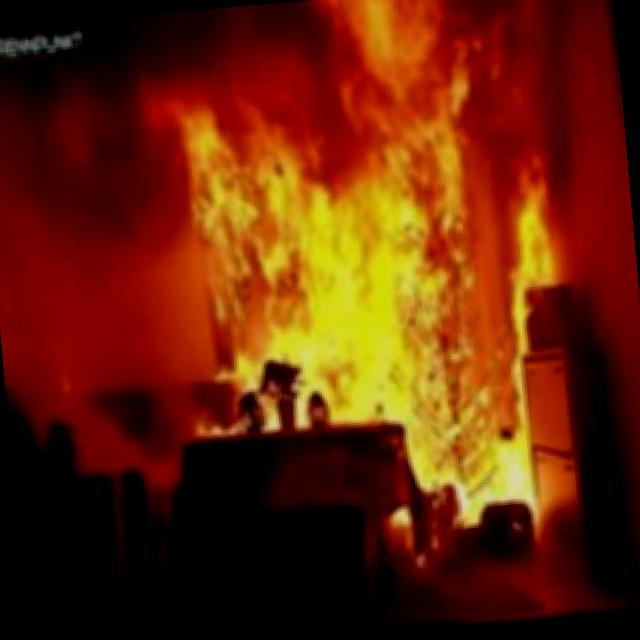fire: (117, 0, 606, 614)
